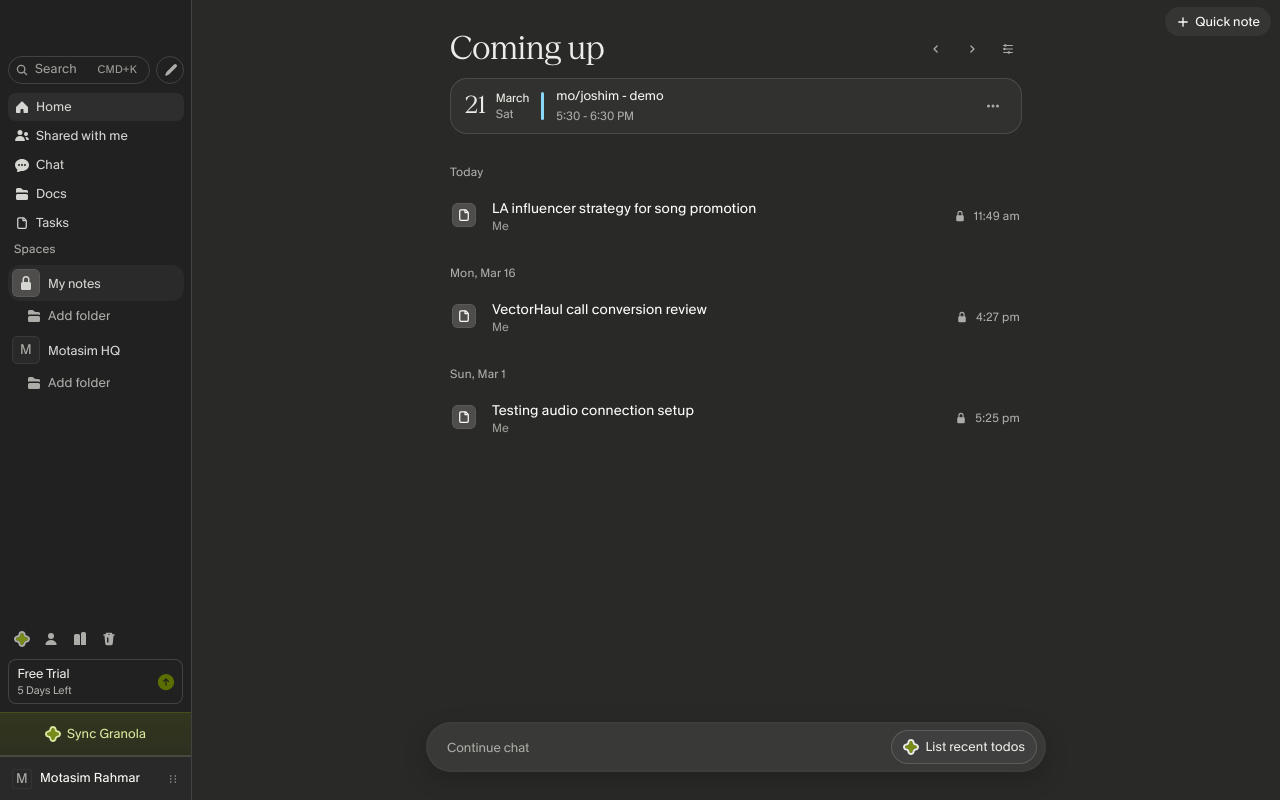
Test: App task copilot › opens seeded team chats from the nested messenger list
Click the button "Chat" at (96, 165), box [8, 151, 184, 179]
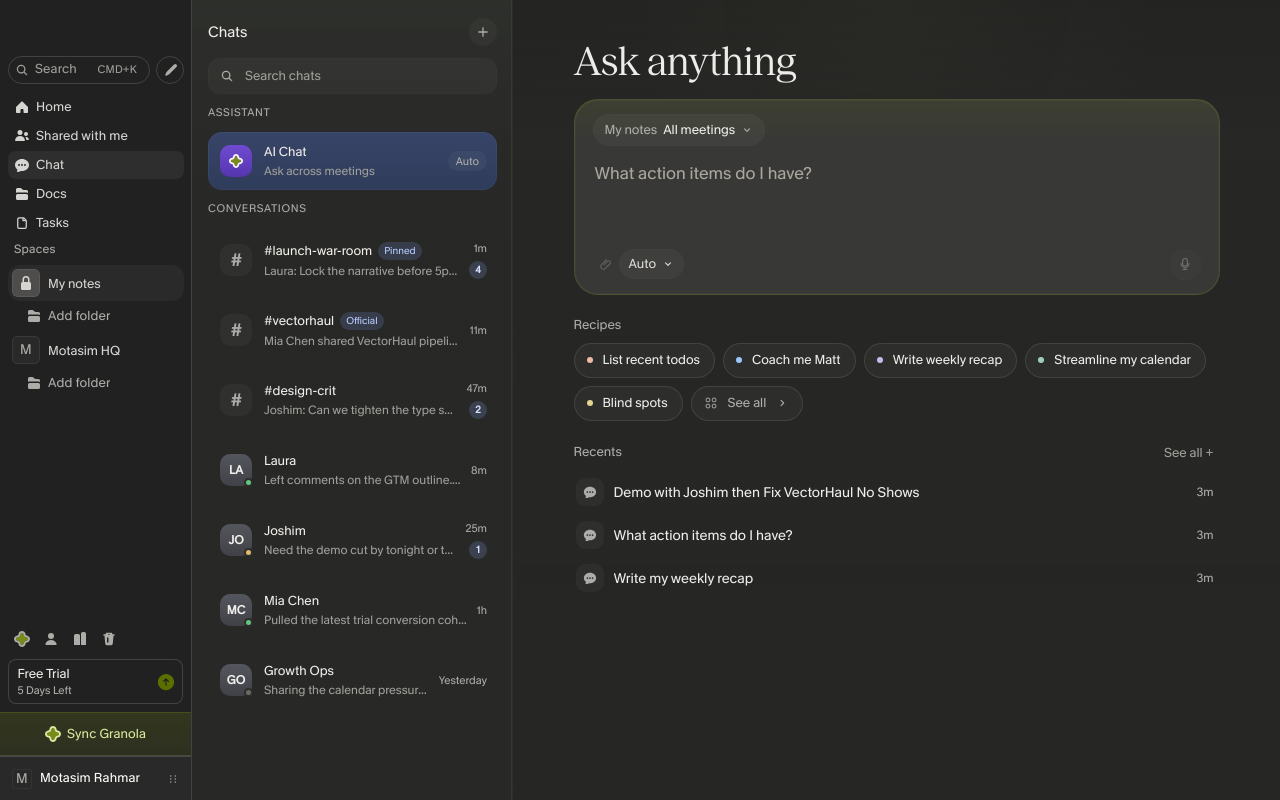
Click the button "#launch-war-room" at (352, 260), box [208, 228, 497, 292]
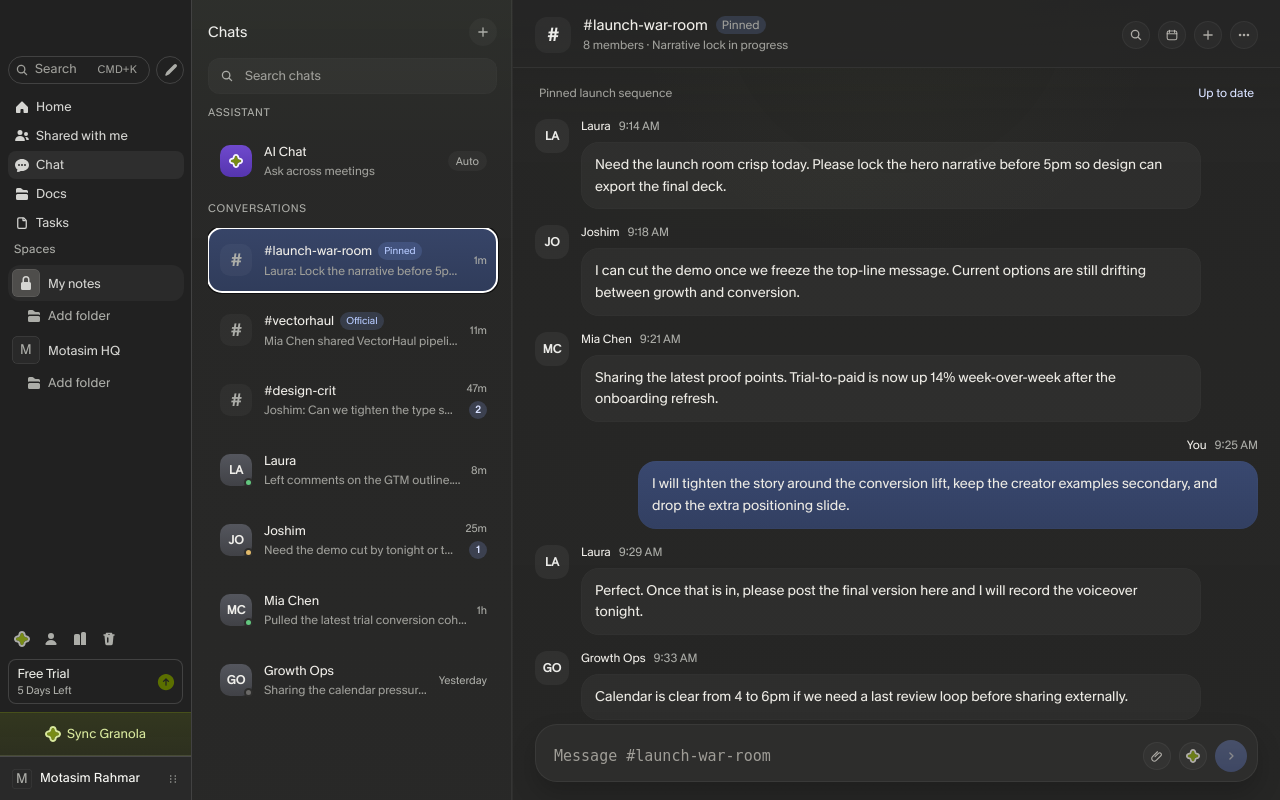
Expected: the element named "Team thread #launch-war-room" is shown, [513, 0, 1279, 799]
Expected: the text "Need the launch room crisp today" is shown, [595, 155, 1165, 196]
Expected: the text "Pinned launch sequence" is shown, [539, 86, 672, 101]
